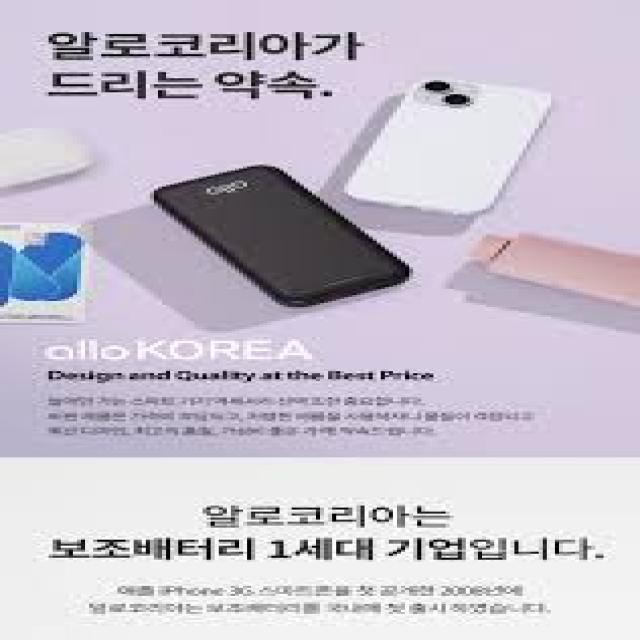portable-charger: (148, 163, 417, 307)
